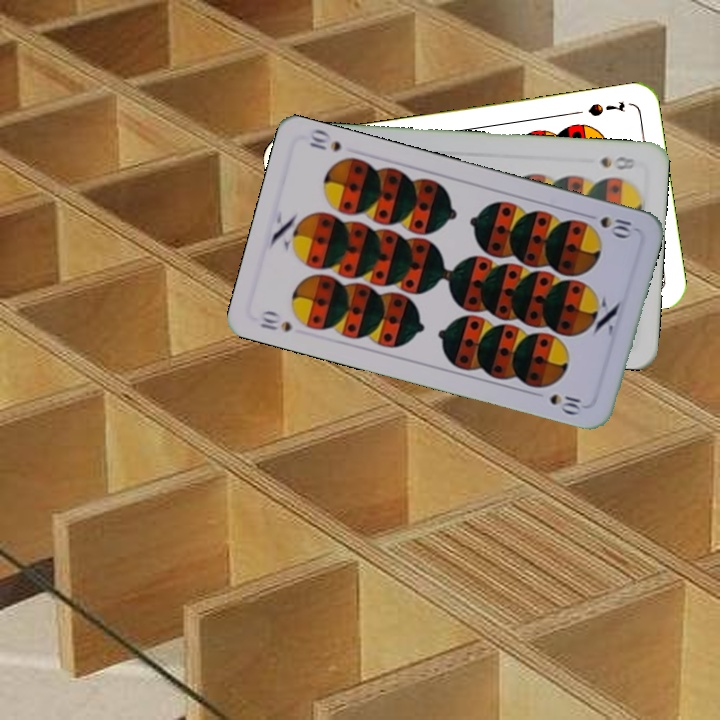S10: (580, 209, 634, 240), (256, 307, 295, 335)
S7: (584, 97, 628, 119)
S8: (596, 152, 639, 173)
